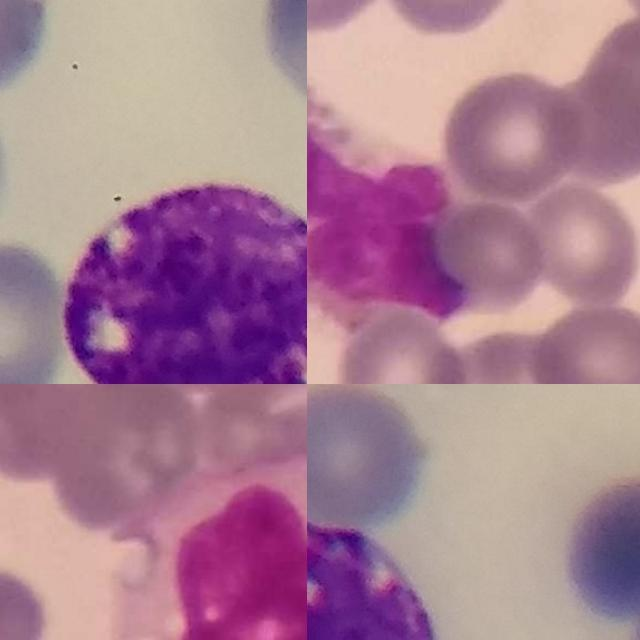Basophil: (64, 179, 307, 384), (307, 505, 438, 640)
Eosinophil: (307, 70, 470, 327)
Monocyte: (124, 443, 307, 640)
